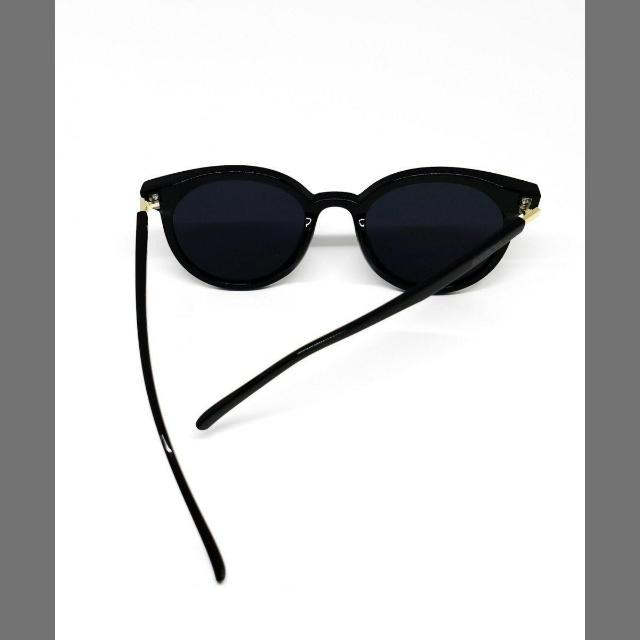Sunglasses: (94, 132, 574, 574)
